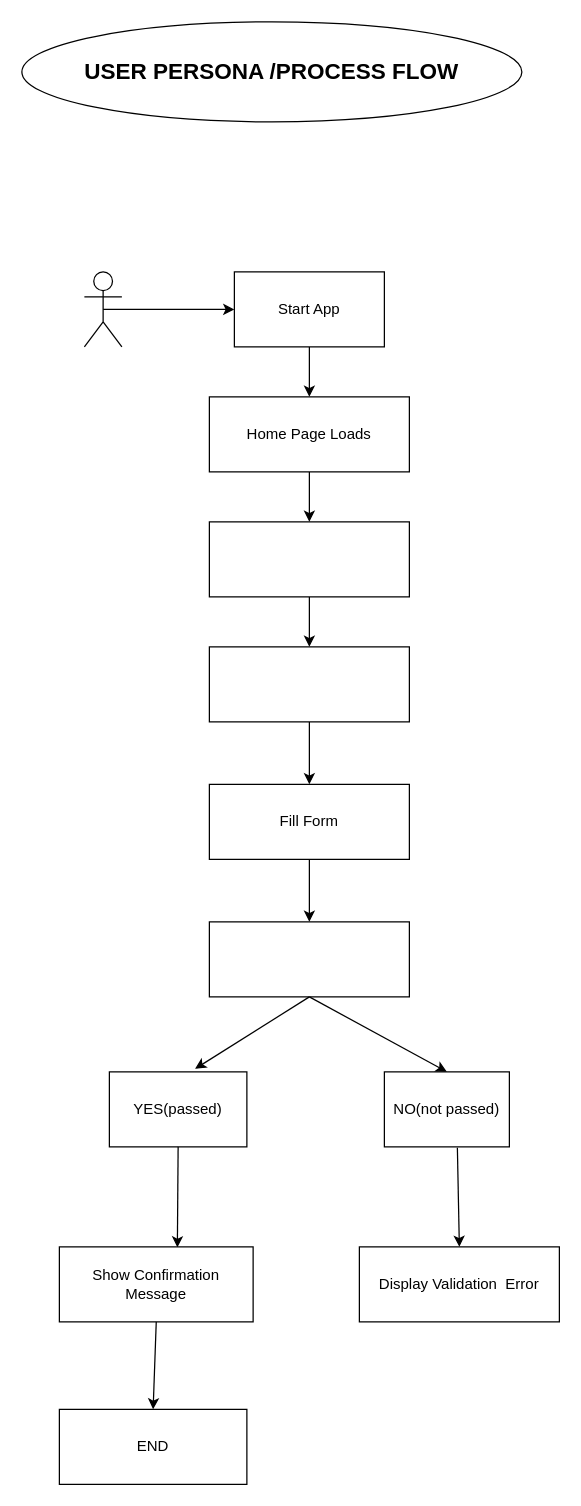
The diagram is 581 pixels wide and 1506 high, and some of its shapes have lost their labels. Each missing label, with the centre of its shape:
"Click Order Now" belongs at (x=308, y=684).
"USER" belongs at (x=102, y=309).
"User Clicks Menu" belongs at (x=308, y=559).
"Validate with App.js" belongs at (x=308, y=959).
